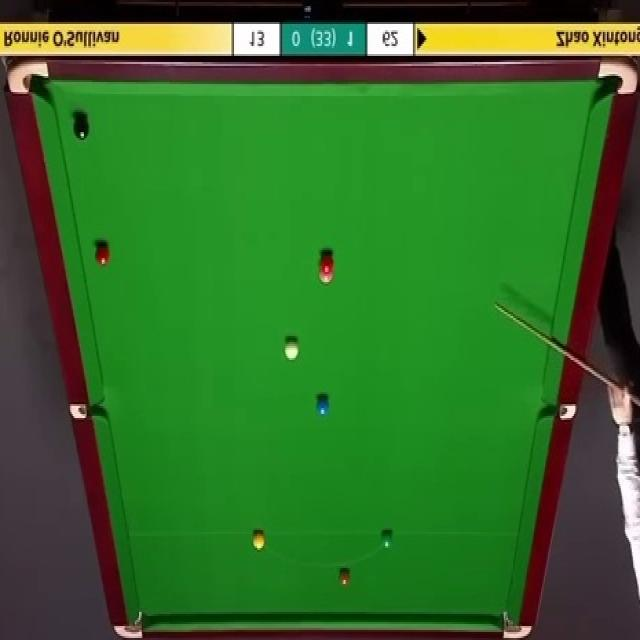black-ball: (71, 114, 90, 138)
blue-ball: (316, 397, 330, 418)
brown-ball: (338, 566, 351, 588)
green-ball: (380, 530, 393, 551)
pink-ball: (317, 274, 334, 284)
red-ball: (94, 242, 111, 267), (319, 251, 333, 272)
white-ball: (284, 338, 298, 360)
yellow-ball: (253, 530, 265, 550)
